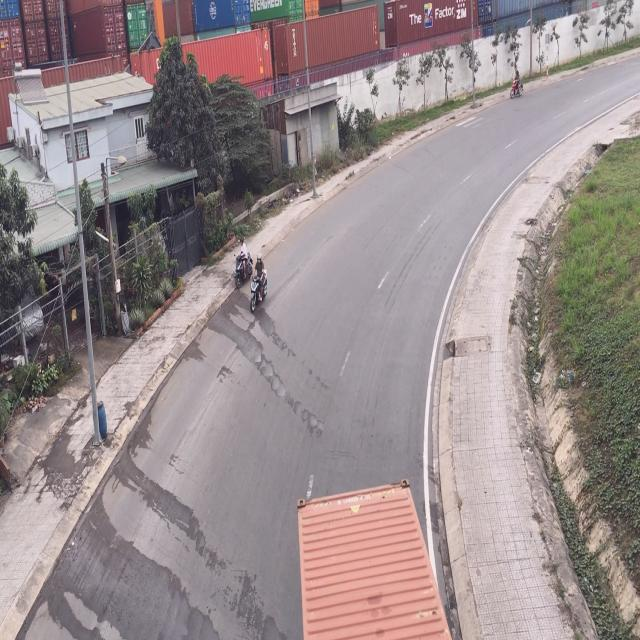motorbike: (251, 252, 269, 316), (235, 242, 255, 290), (511, 64, 526, 101)
truck: (298, 479, 457, 639)
